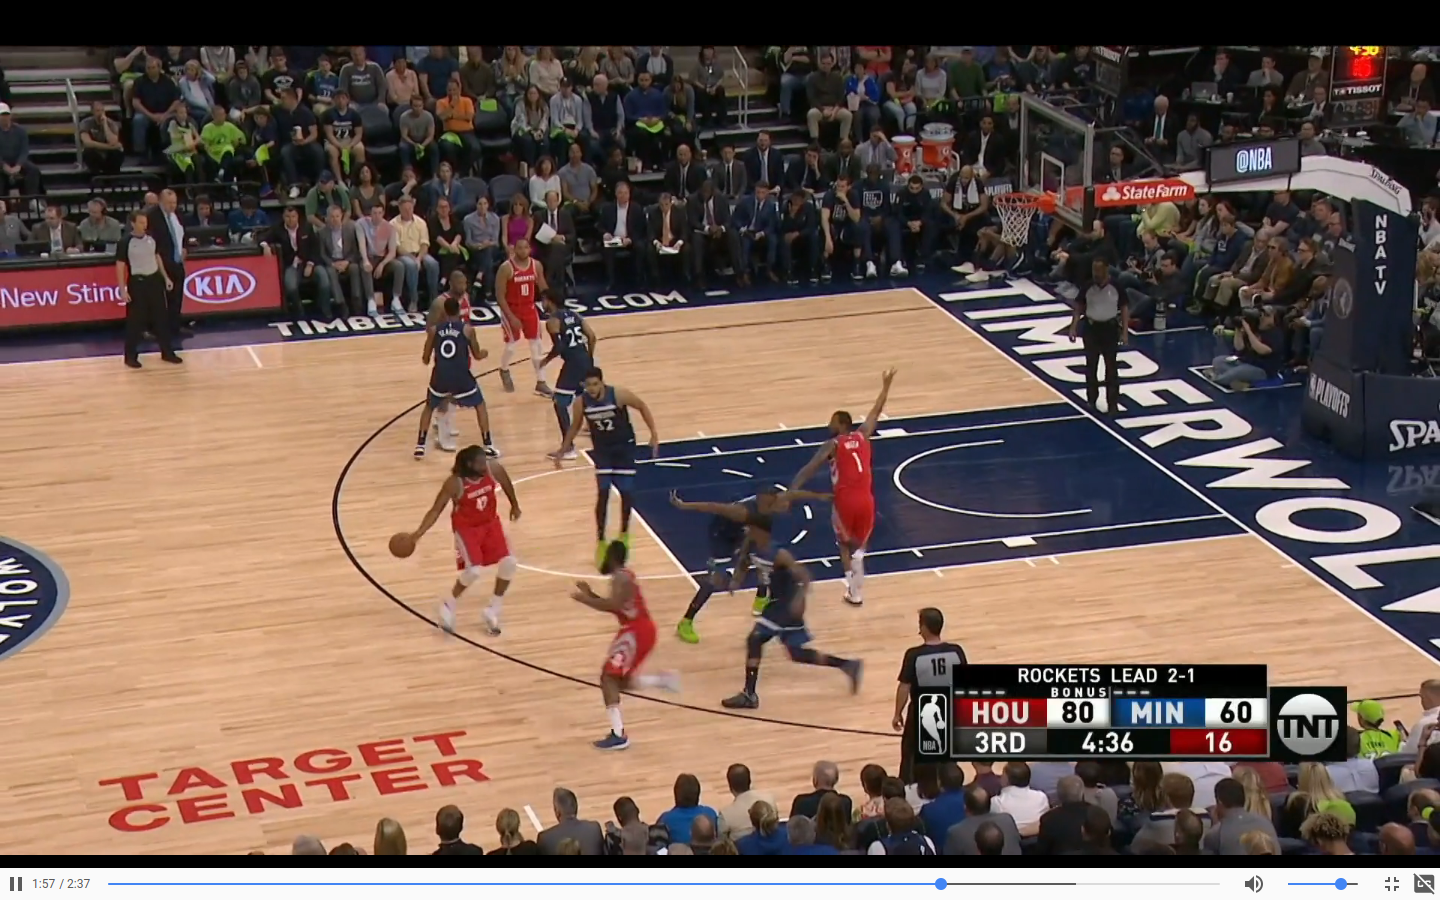ball: (388, 533, 417, 560)
player: (751, 526, 853, 710), (577, 374, 657, 546), (820, 400, 883, 616), (439, 453, 508, 639), (589, 550, 645, 751), (496, 239, 541, 401), (422, 302, 468, 458), (542, 292, 584, 434)
referee: (1072, 267, 1129, 419), (125, 218, 155, 369)
